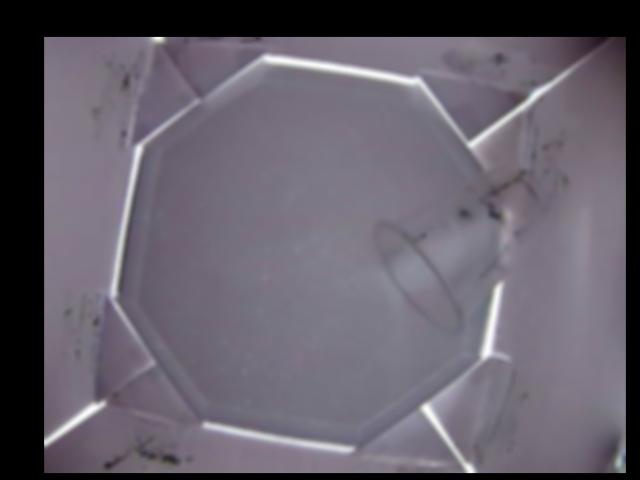Cup: (385, 159, 548, 329)
